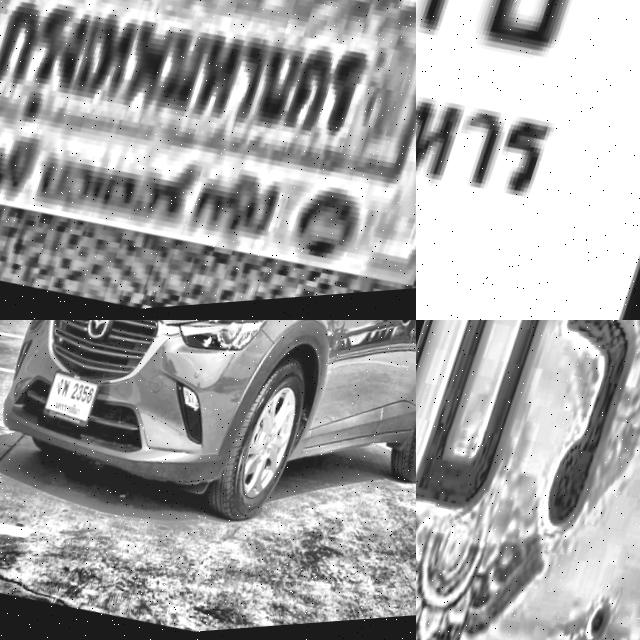license-plate: (0, 0, 416, 320), (416, 0, 640, 320), (416, 320, 640, 640), (44, 369, 108, 433)
